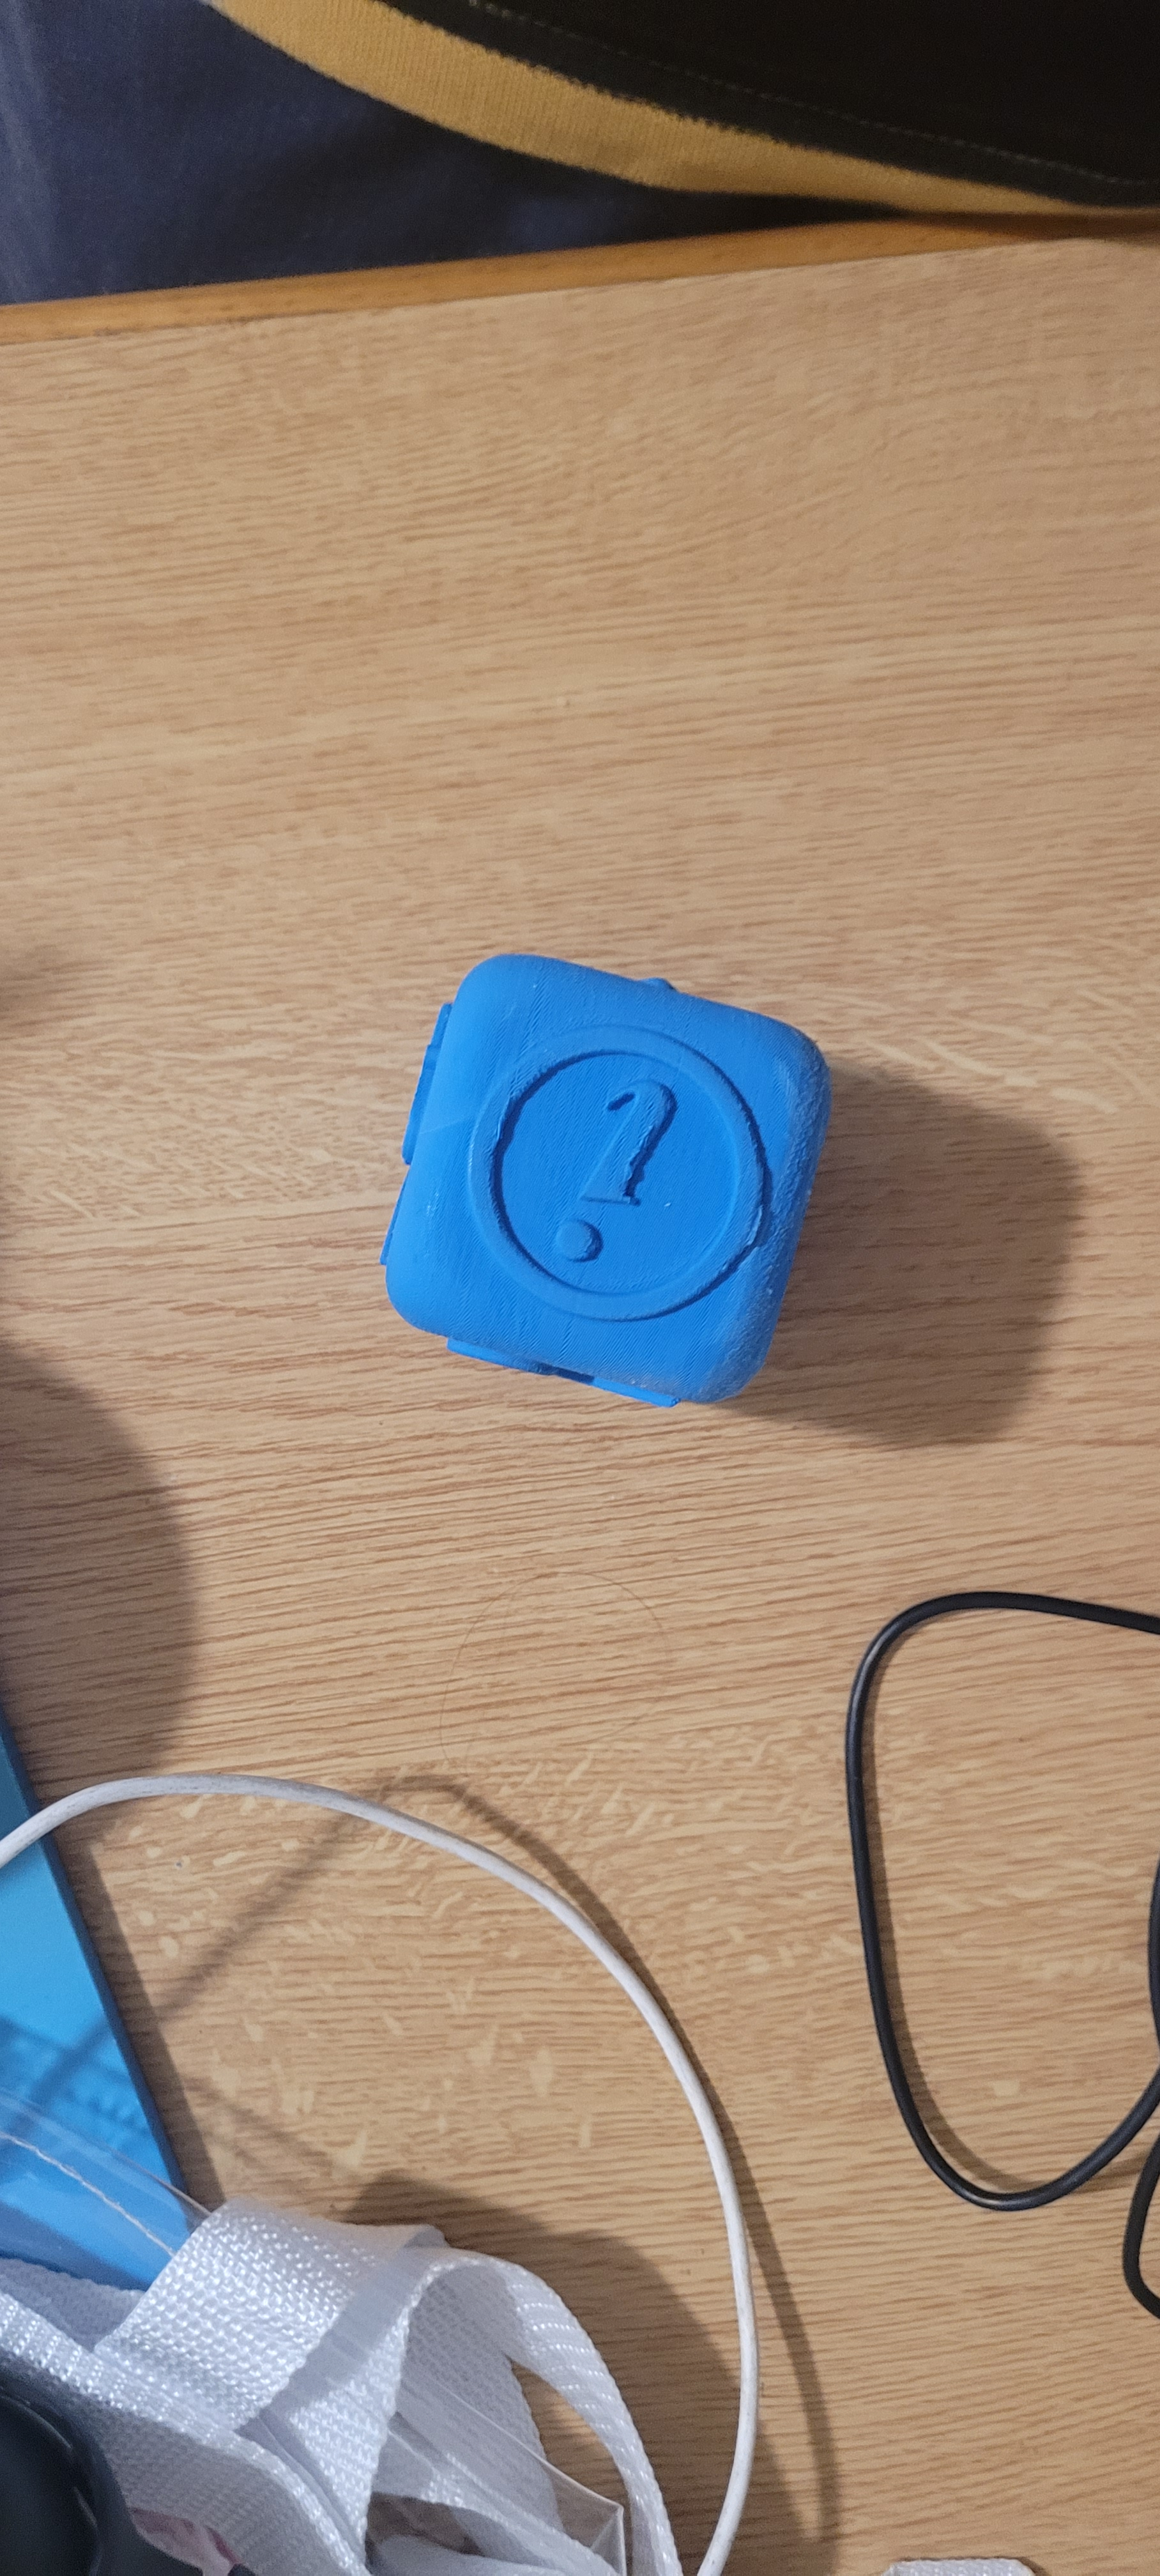Info: (453, 992, 771, 1365)
